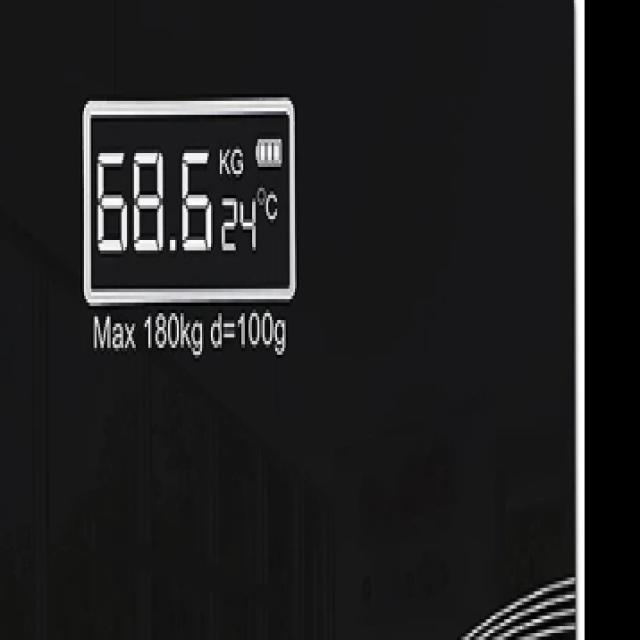.: (168, 238, 179, 254)
2: (220, 197, 240, 259)
4: (239, 197, 258, 252)
6: (95, 142, 132, 262), (181, 142, 214, 264)
8: (129, 149, 170, 267)
screen: (92, 116, 291, 290)
